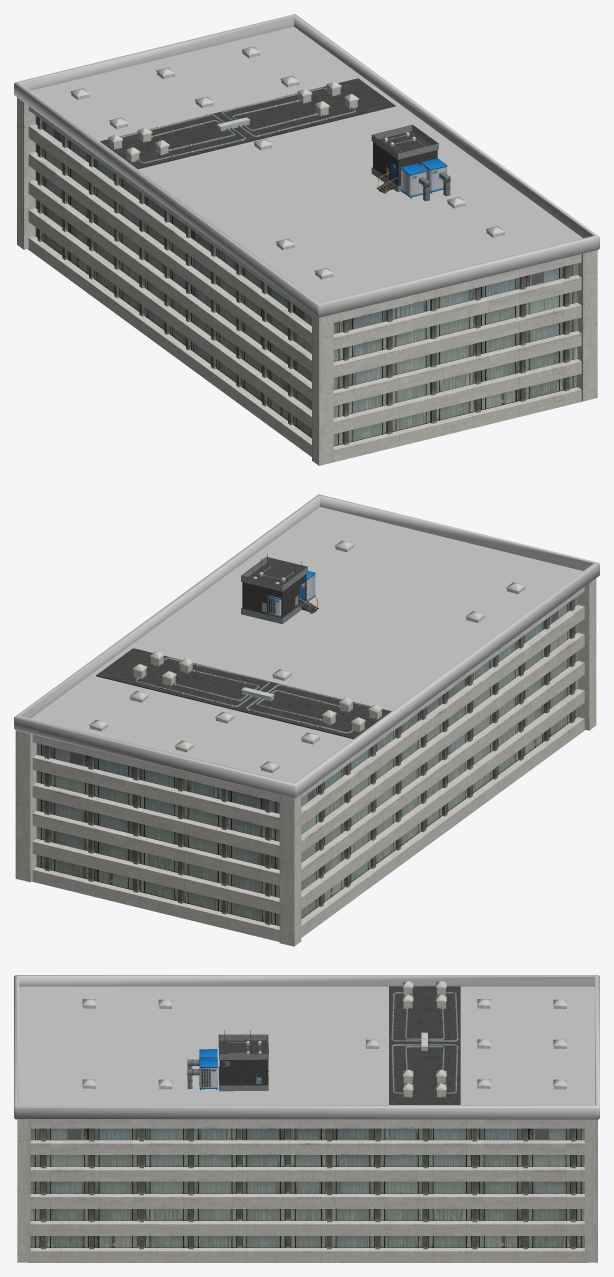
Rendered from u2EBuild2.gltf.
3 views of the same model, one above another, from view 1: azimuth 30°, elevation 25°; view 2: azimuth 150°, elevation 25°; view 3: azimuth 270°, elevation 25° (orthographic). The views are drawn at different scales.
Parts seen in each view (by area): view 1: u2EBuild2; view 2: u2EBuild2; view 3: u2EBuild2.
Part boxes in pixels (left/top/right/bottom): u2EBuild2: left=14, top=14, right=599, bottom=465; u2EBuild2: left=14, top=494, right=599, bottom=946; u2EBuild2: left=14, top=975, right=599, bottom=1262.
Size of the model in its own units: 11.49 by 7.7 by 21.47.
